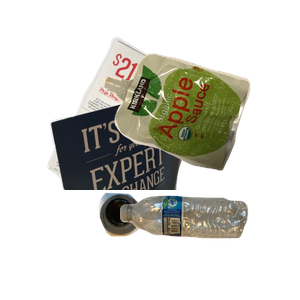glass: (96, 190, 230, 300)
paper: (45, 34, 230, 214)
plastic: (118, 193, 300, 300)
trash: (100, 51, 300, 214)
